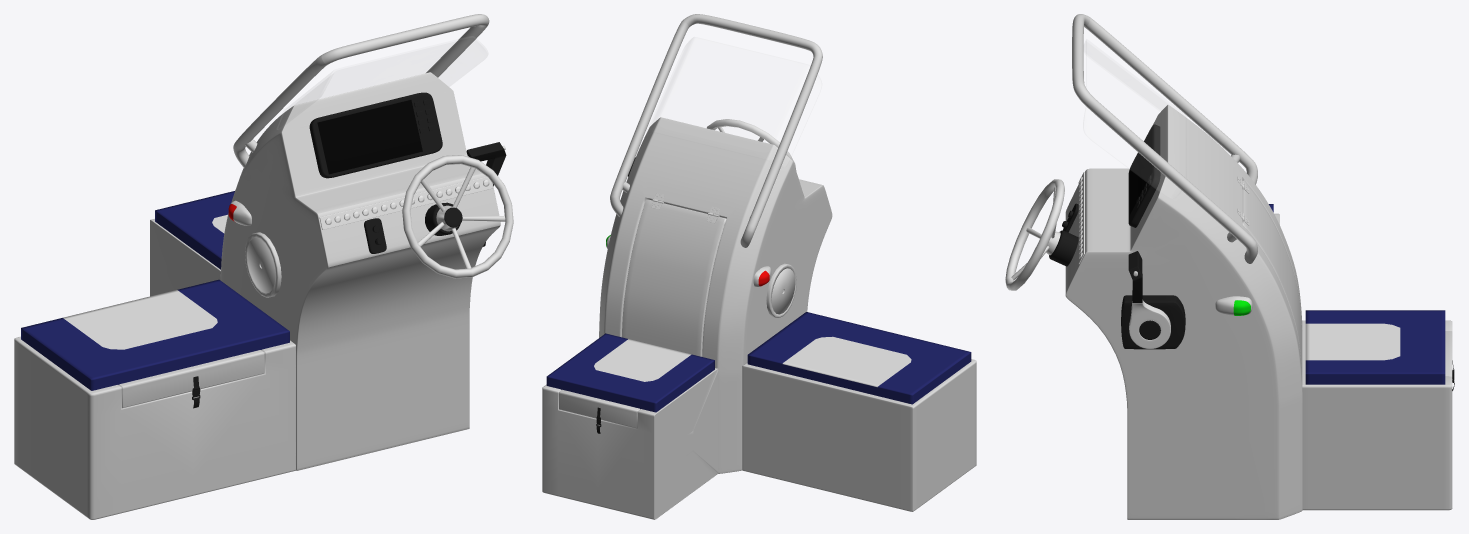
File: centerConsoleHybrid.glb
3 views of the same model, side by side, from view 1: azimuth 30°, elevation 25°; view 2: azimuth 150°, elevation 25°; view 3: azimuth 270°, elevation 25° (orthographic). The views are drawn at different scales.
Parts seen in each view (by area): view 1: calssic centre console sports.001, Classic centre console side seat.002, Classic centre console side seat.004, Classic centre console side seat.005, Classic centre console side seat.003, Classic centre console side seat.006; view 2: calssic centre console sports.001, Classic centre console side seat.002, Classic centre console side seat.003, Classic centre console side seat.004, Classic centre console side seat.006, Classic centre console side seat.005, Classic centre console side seat.007; view 3: calssic centre console sports.001, Classic centre console side seat.003, Classic centre console side seat.006, Classic centre console side seat.007.
Part boxes in pixels (left/top/right/bottom): calssic centre console sports.001: left=220, top=14, right=513, bottom=470; Classic centre console side seat.002: left=14, top=336, right=295, bottom=519; Classic centre console side seat.004: left=21, top=279, right=289, bottom=390; Classic centre console side seat.005: left=63, top=290, right=217, bottom=349; Classic centre console side seat.003: left=150, top=219, right=220, bottom=296; Classic centre console side seat.006: left=155, top=191, right=234, bottom=269; calssic centre console sports.001: left=599, top=14, right=832, bottom=473; Classic centre console side seat.002: left=742, top=359, right=976, bottom=511; Classic centre console side seat.003: left=542, top=368, right=718, bottom=519; Classic centre console side seat.004: left=747, top=312, right=971, bottom=404; Classic centre console side seat.006: left=546, top=333, right=714, bottom=412; Classic centre console side seat.005: left=782, top=337, right=911, bottom=387; Classic centre console side seat.007: left=594, top=339, right=691, bottom=381; calssic centre console sports.001: left=1005, top=14, right=1302, bottom=519; Classic centre console side seat.003: left=1302, top=320, right=1454, bottom=510; Classic centre console side seat.006: left=1305, top=310, right=1445, bottom=384; Classic centre console side seat.007: left=1305, top=323, right=1400, bottom=360.
Bounding box in the file's own units: 2.61 × 2.61 × 2.46.
9 materials, 1 textured.
